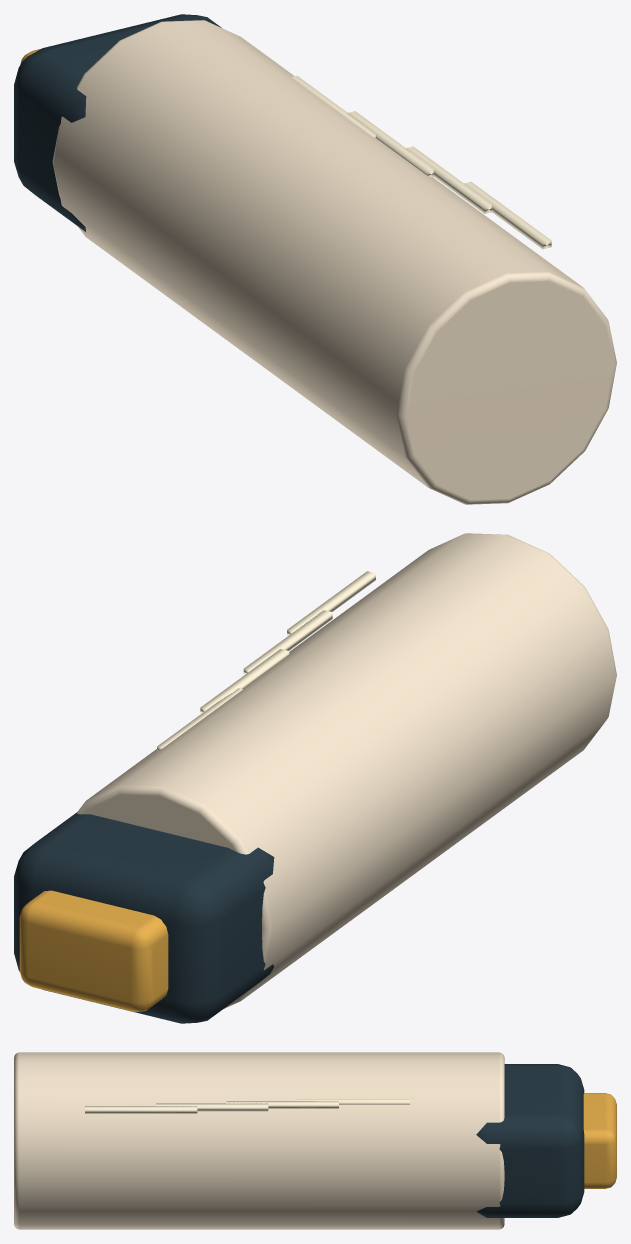
File: part_chalk.glb
3 renders of one model, top to bottom at view 1: azimuth 30°, elevation 25°; view 2: azimuth 150°, elevation 25°; view 3: azimuth 270°, elevation 25°, orthographic. The views are drawn at different scales.
Visible parts, largest first — view 1: Powdery chalk, Universal rubber mounting pad.014, Chalk longitudinal scuff.003, Chalk longitudinal scuff.002, Chalk longitudinal scuff.001; view 2: Powdery chalk, Universal rubber mounting pad.014, Snap-in brass tongue.014, Chalk longitudinal scuff.003, Chalk longitudinal scuff.002, Chalk longitudinal scuff.001; view 3: Powdery chalk, Universal rubber mounting pad.014, Snap-in brass tongue.014, Chalk longitudinal scuff.003, Chalk longitudinal scuff.002, Chalk longitudinal scuff.001, Chalk longitudinal scuff.
Boxes of the visible parts, bbox=[...] form: Powdery chalk: bbox=[52, 20, 616, 504]; Universal rubber mounting pad.014: bbox=[14, 14, 222, 231]; Chalk longitudinal scuff.003: bbox=[464, 181, 551, 249]; Chalk longitudinal scuff.002: bbox=[405, 146, 492, 213]; Chalk longitudinal scuff.001: bbox=[347, 111, 434, 177]; Powdery chalk: bbox=[77, 533, 616, 1008]; Universal rubber mounting pad.014: bbox=[14, 812, 274, 1023]; Snap-in brass tongue.014: bbox=[19, 890, 168, 1011]; Chalk longitudinal scuff.003: bbox=[287, 571, 375, 636]; Chalk longitudinal scuff.002: bbox=[243, 610, 332, 675]; Chalk longitudinal scuff.001: bbox=[200, 649, 289, 714]; Powdery chalk: bbox=[14, 1052, 504, 1229]; Universal rubber mounting pad.014: bbox=[476, 1064, 584, 1217]; Snap-in brass tongue.014: bbox=[583, 1093, 616, 1188]; Chalk longitudinal scuff.003: bbox=[85, 1106, 197, 1113]; Chalk longitudinal scuff.002: bbox=[156, 1103, 268, 1111]; Chalk longitudinal scuff.001: bbox=[226, 1101, 338, 1108]; Chalk longitudinal scuff: bbox=[297, 1099, 409, 1104].
Bounding box in the file's own units: 0.006 × 0.006 × 0.0204.
